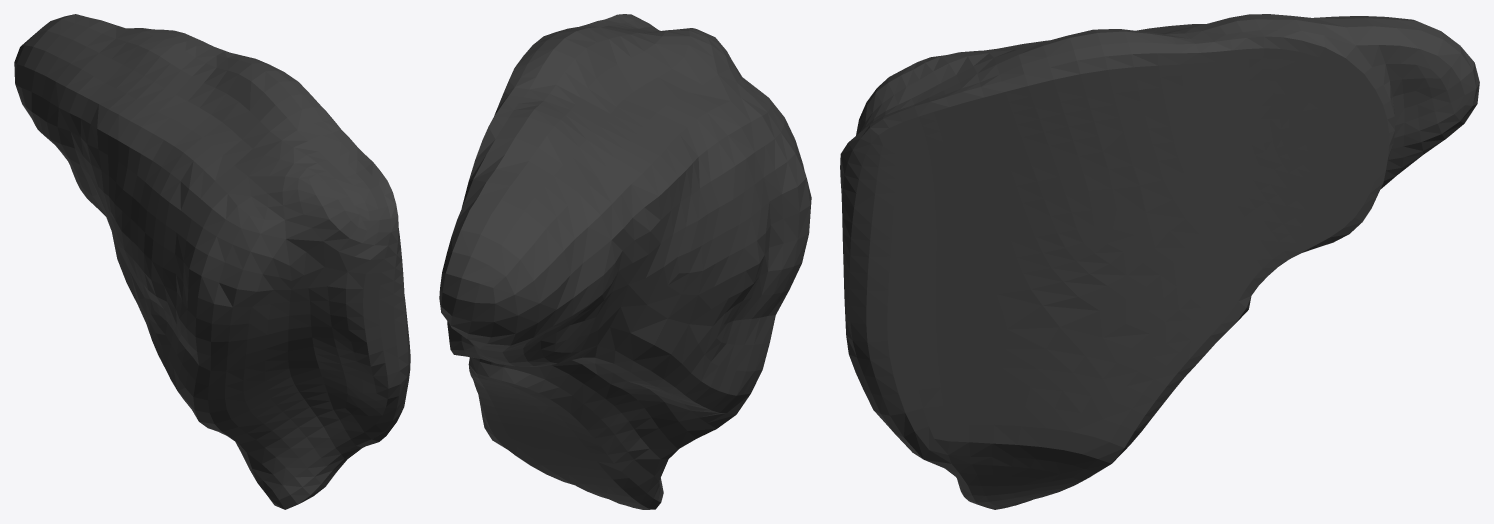
The model's file is Frontal_sinus_L_medial.glb.
The picture shows the model from 3 angles, left to right: view 1: azimuth 30°, elevation 25°; view 2: azimuth 150°, elevation 25°; view 3: azimuth 270°, elevation 25°; orthographic projection. The views are drawn at different scales.
Visible parts, largest first — view 1: Frontal_sinus_L_medial; view 2: Frontal_sinus_L_medial; view 3: Frontal_sinus_L_medial.
Part boxes in pixels (<box>): Frontal_sinus_L_medial: <box>14,14,410,509</box>; Frontal_sinus_L_medial: <box>439,14,811,509</box>; Frontal_sinus_L_medial: <box>840,14,1479,509</box>.
Bounding box in the file's own units: 60.81 × 119 × 142.
Materials: 1 (1 with a texture image).
